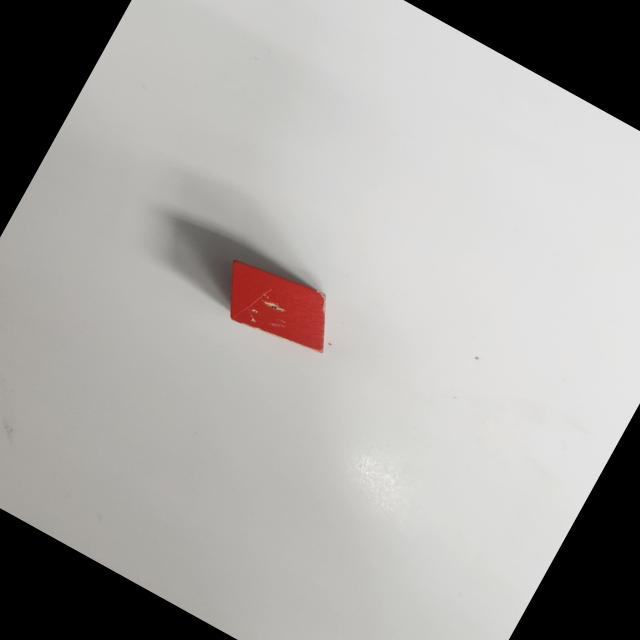broken: (208, 248, 346, 366)
